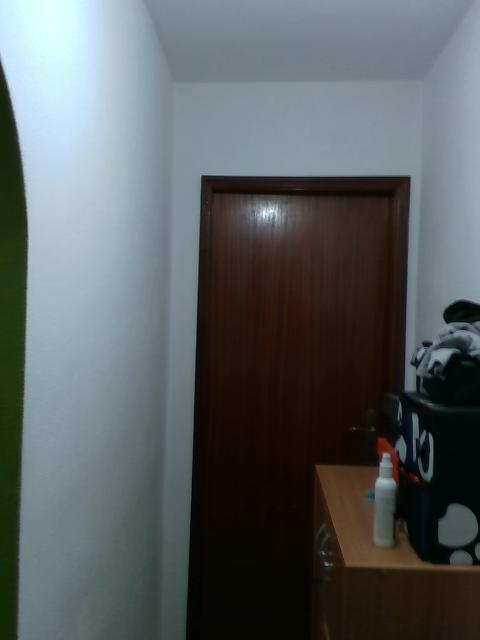door: (204, 191, 388, 640)
